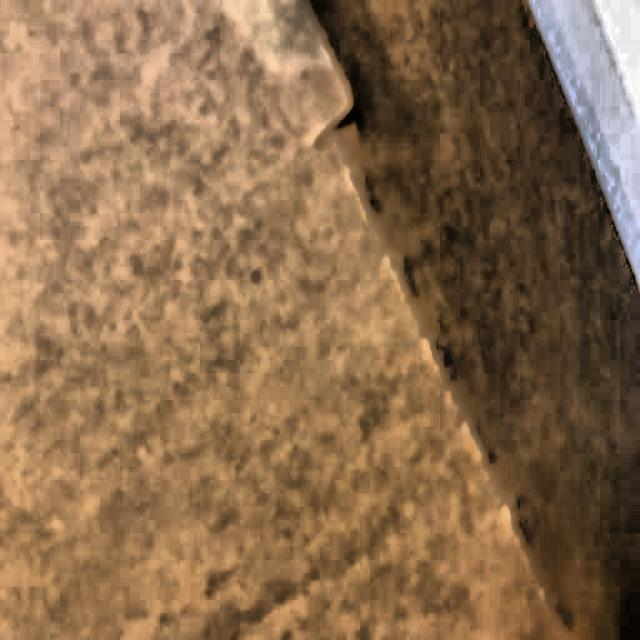cardboard: (0, 3, 627, 607)
